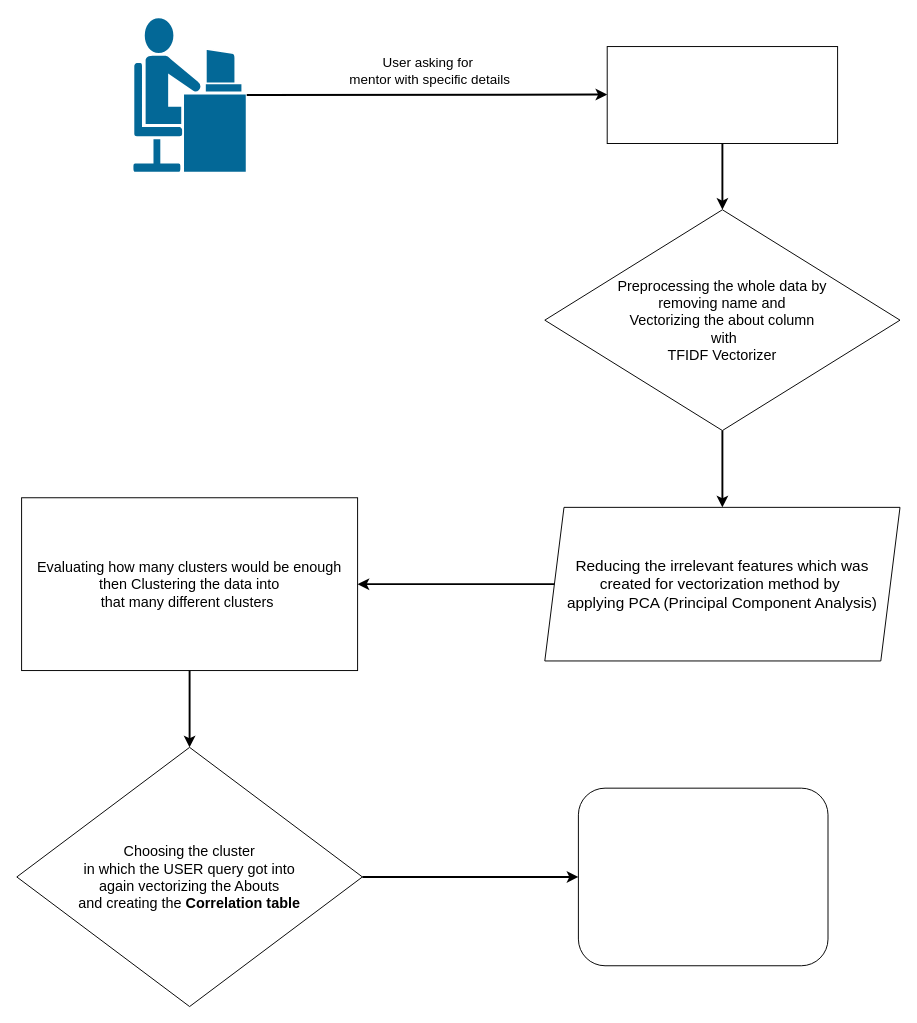
The diagram is 917 pixels wide and 1023 high, and some of its shapes have lost their labels. Each missing label, with the centre of its shape:
Putting that data together as a STRING in already existing data of mentors: pixel 722 95
Showing the top 10 Results as Output: pixel 702 876
